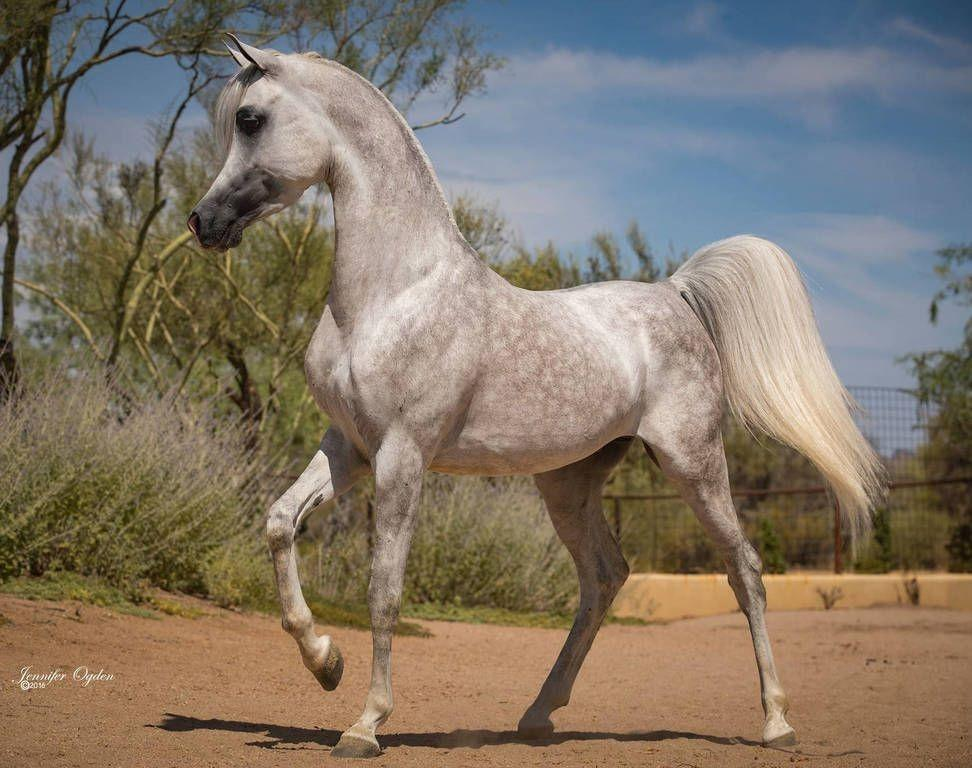horse: (185, 30, 892, 758)
